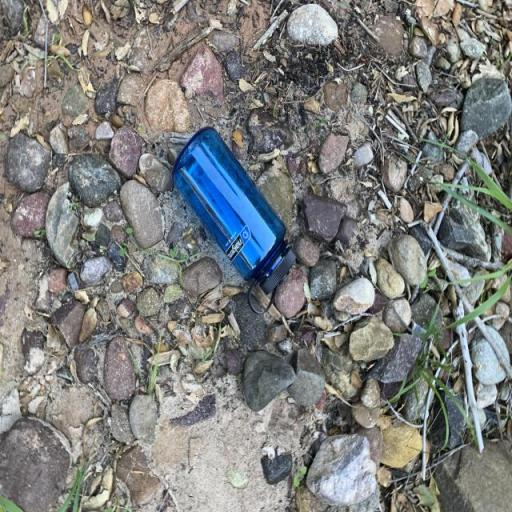bottle: (172, 126, 297, 315)
